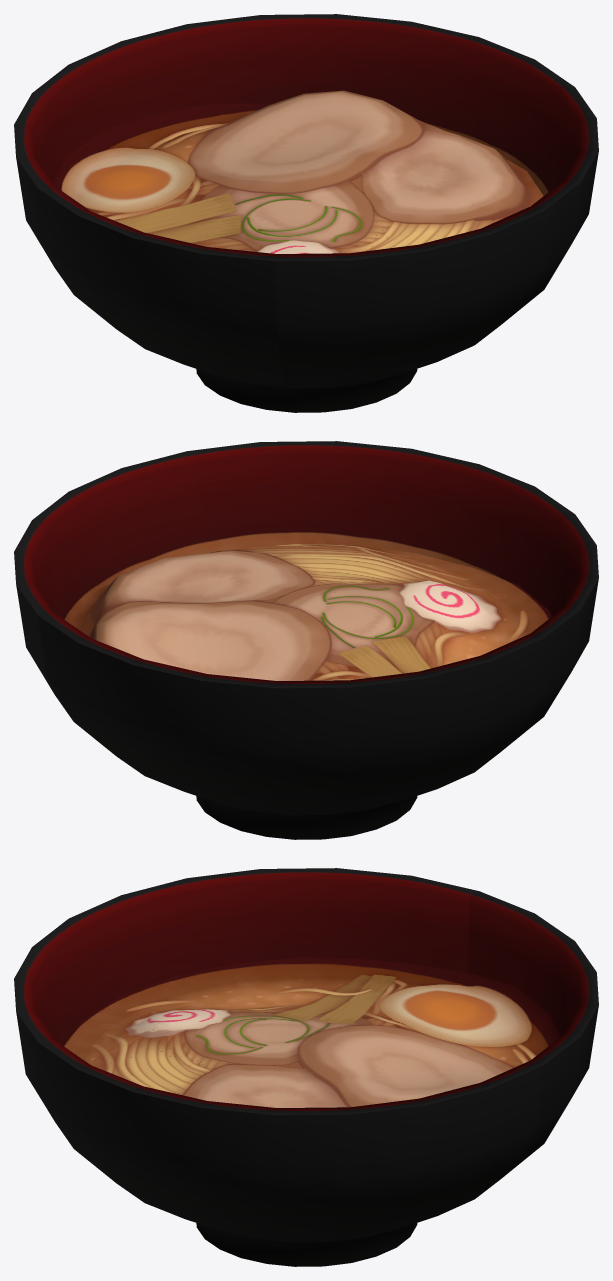
Rendered from Ramen.fbx.
The picture shows the model from 3 angles, top to bottom: view 1: azimuth 30°, elevation 25°; view 2: azimuth 150°, elevation 25°; view 3: azimuth 270°, elevation 25°; orthographic projection.
Parts seen in each view (by area): view 1: Ramen_1; view 2: Ramen_1; view 3: Ramen_1.
Boxes of the visible parts, <box> form: Ramen_1: <box>14,14,598,412</box>; Ramen_1: <box>14,441,598,839</box>; Ramen_1: <box>14,868,598,1266</box>.
Bounding box in the file's own units: 68.53 × 29.51 × 68.53.
1 material, 1 textured.
